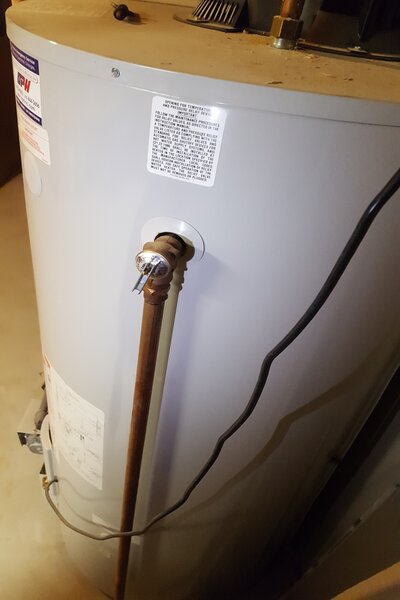valve: (131, 234, 184, 310)
